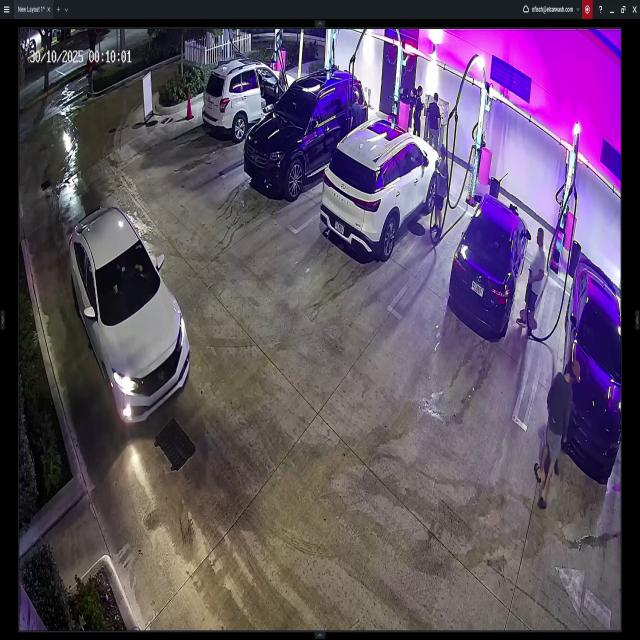Car: (66, 204, 190, 421), (322, 120, 439, 264), (244, 70, 369, 194), (562, 256, 622, 480), (448, 192, 529, 339), (202, 58, 294, 138)
